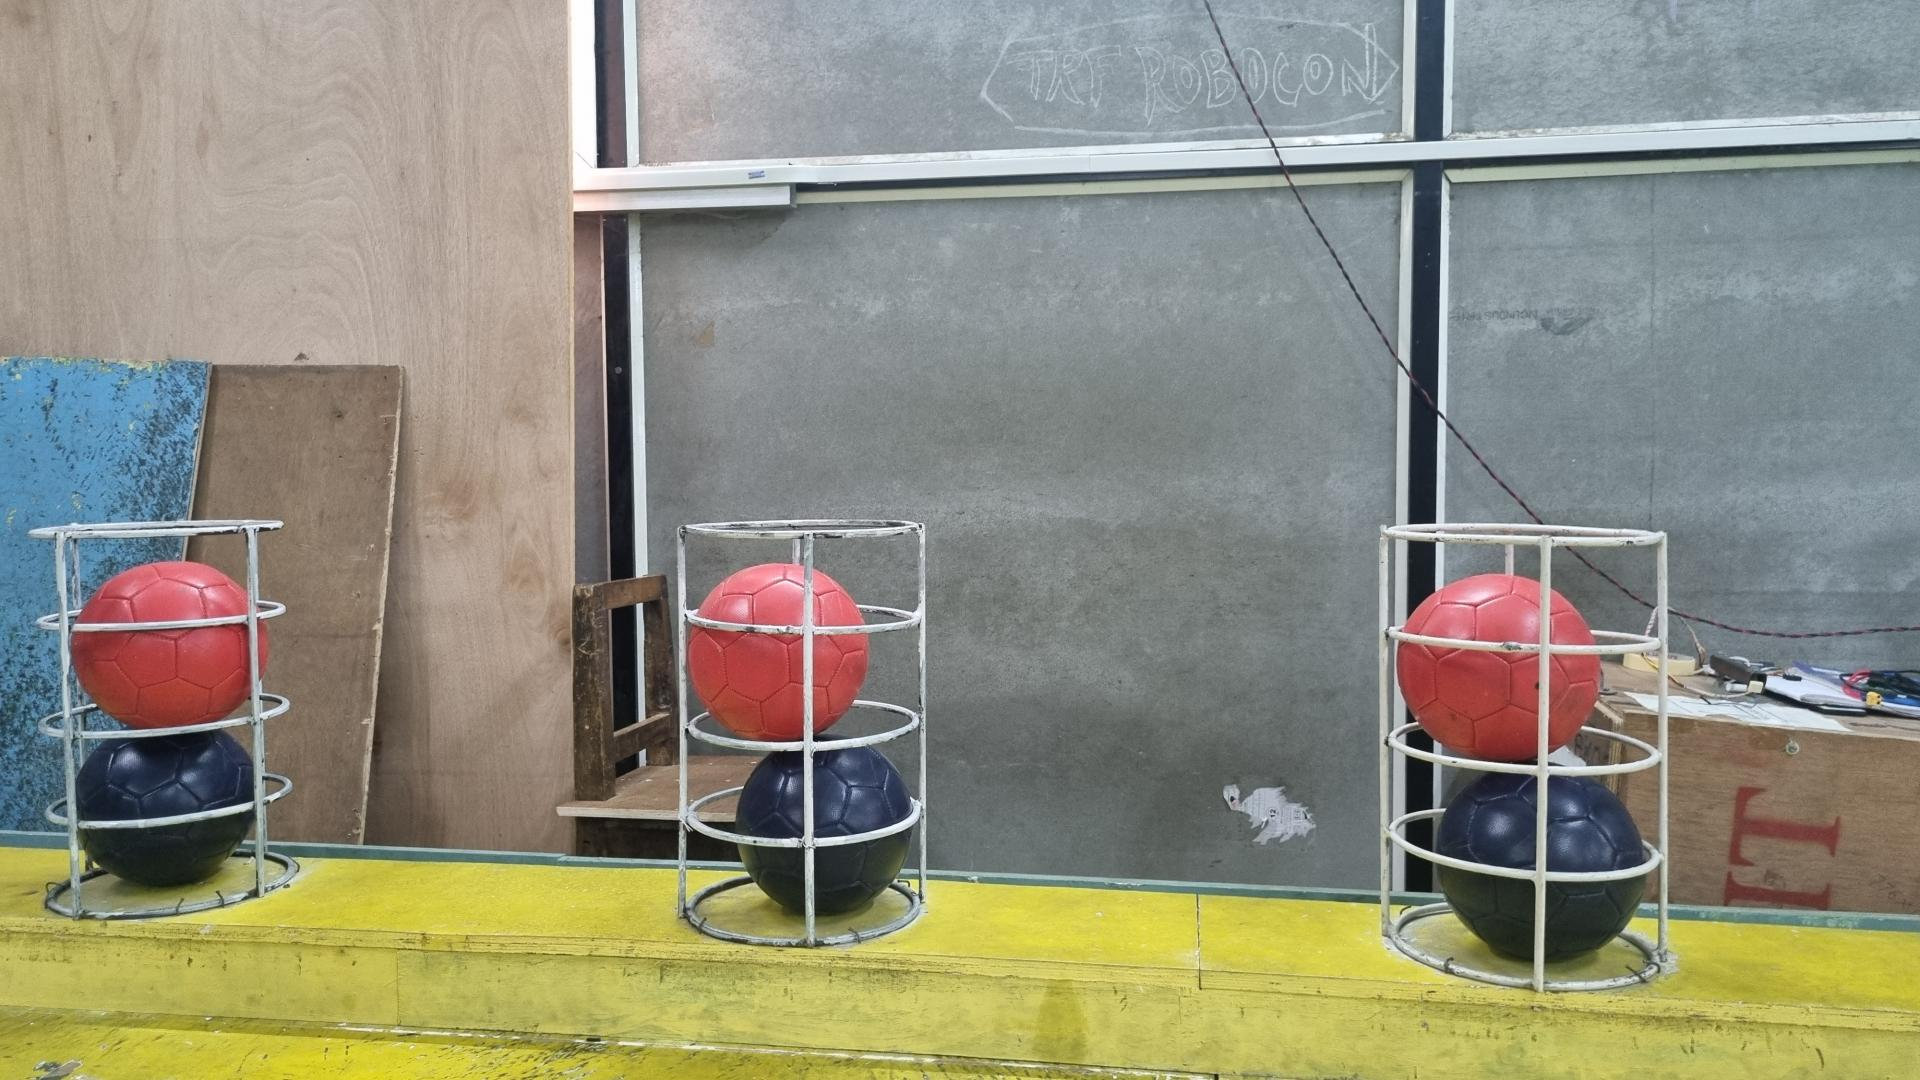dhoka: (1436, 771, 1650, 963), (735, 745, 919, 918), (75, 731, 255, 887)
laale: (1395, 574, 1601, 765), (71, 562, 270, 731), (686, 562, 870, 742)
